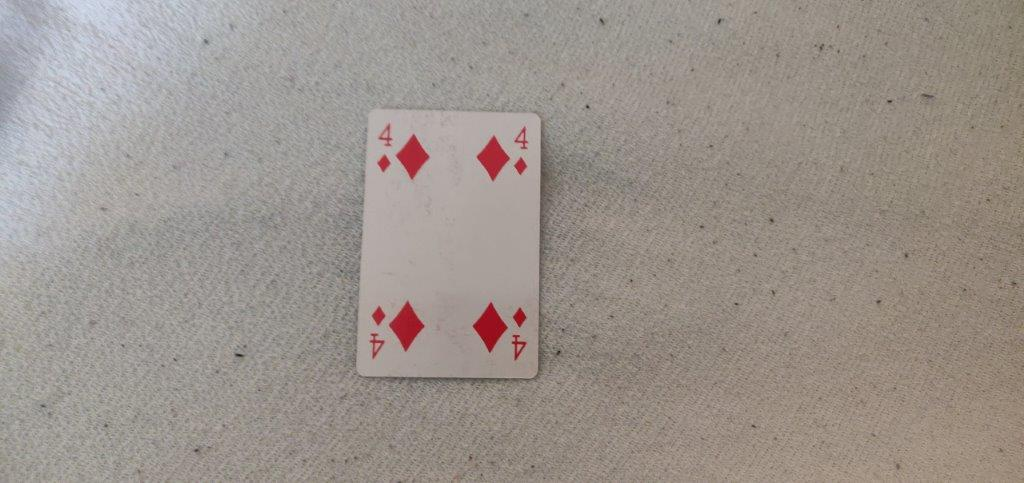4D: (510, 122, 533, 177), (374, 121, 397, 174)
